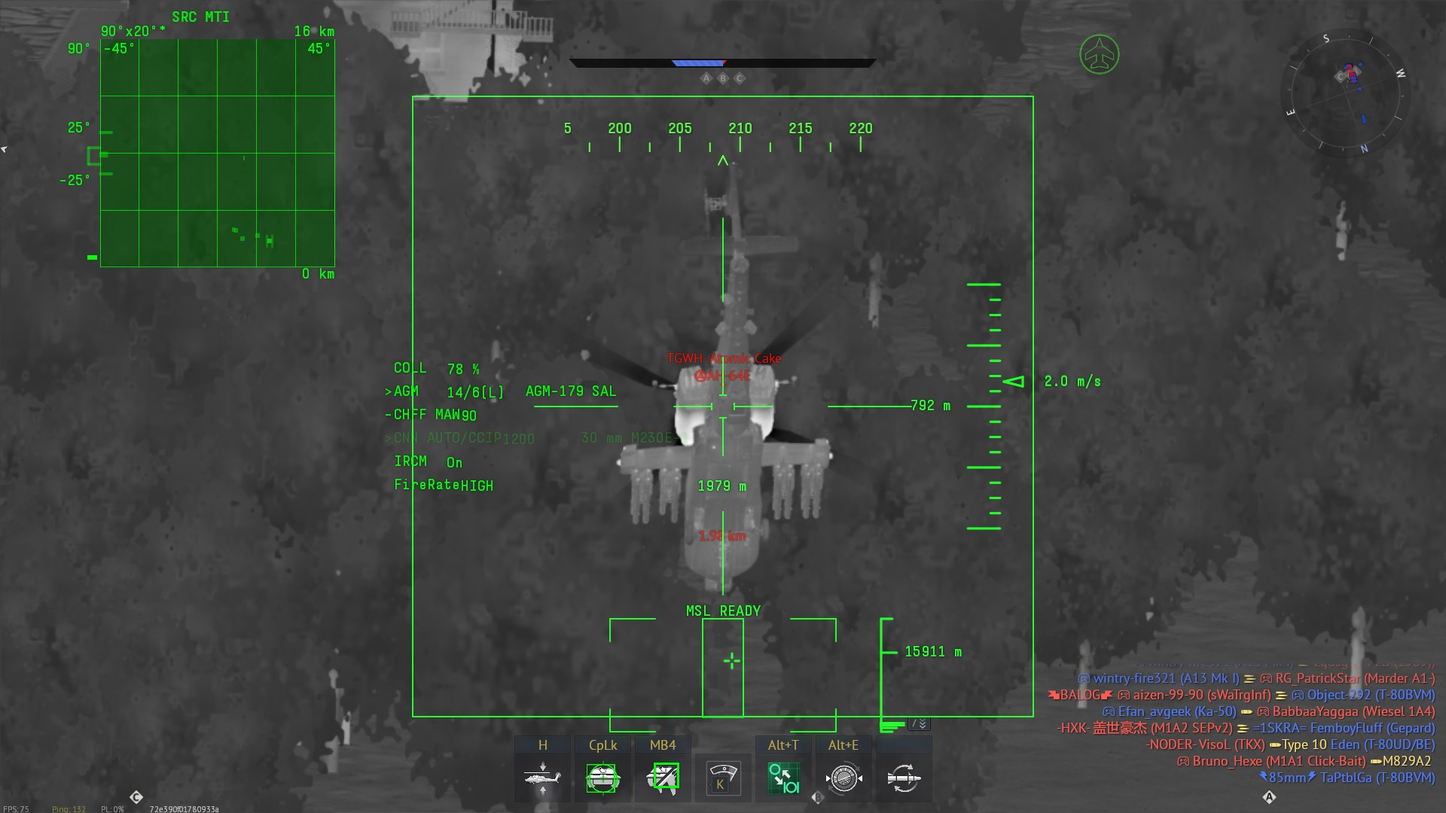ah64: (584, 170, 857, 594)
